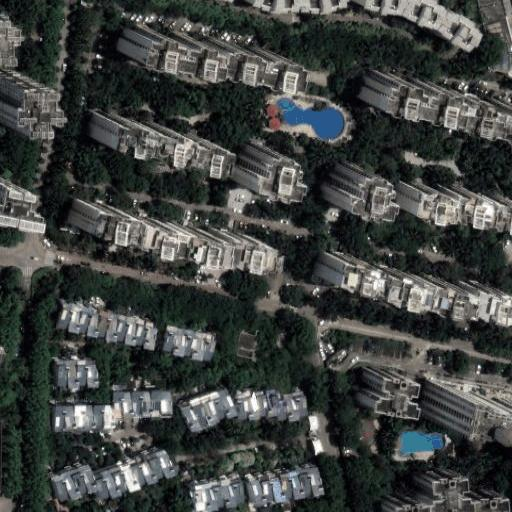building: (91, 190, 284, 263), (131, 25, 300, 86), (339, 240, 474, 308), (380, 59, 512, 126), (99, 107, 226, 164), (54, 303, 160, 351), (91, 449, 176, 503), (248, 464, 325, 509), (446, 408, 510, 456), (243, 149, 297, 197), (0, 77, 49, 128), (178, 388, 233, 433), (335, 166, 384, 215), (189, 472, 247, 512), (461, 184, 512, 228), (411, 176, 466, 214), (162, 326, 216, 364), (0, 164, 42, 212), (350, 372, 399, 413), (51, 464, 96, 503), (233, 385, 281, 419), (416, 466, 460, 501), (113, 392, 171, 417), (236, 0, 337, 13), (57, 360, 99, 390), (54, 406, 111, 428), (460, 486, 501, 512), (482, 19, 512, 53), (484, 281, 512, 314), (279, 389, 306, 422), (477, 0, 508, 24), (0, 13, 13, 58), (236, 333, 257, 358), (360, 420, 374, 439), (312, 440, 323, 456), (309, 416, 318, 431), (269, 117, 280, 128), (268, 105, 278, 116), (113, 386, 129, 392), (129, 380, 137, 392), (156, 382, 165, 392), (282, 502, 290, 510), (261, 506, 271, 512)
